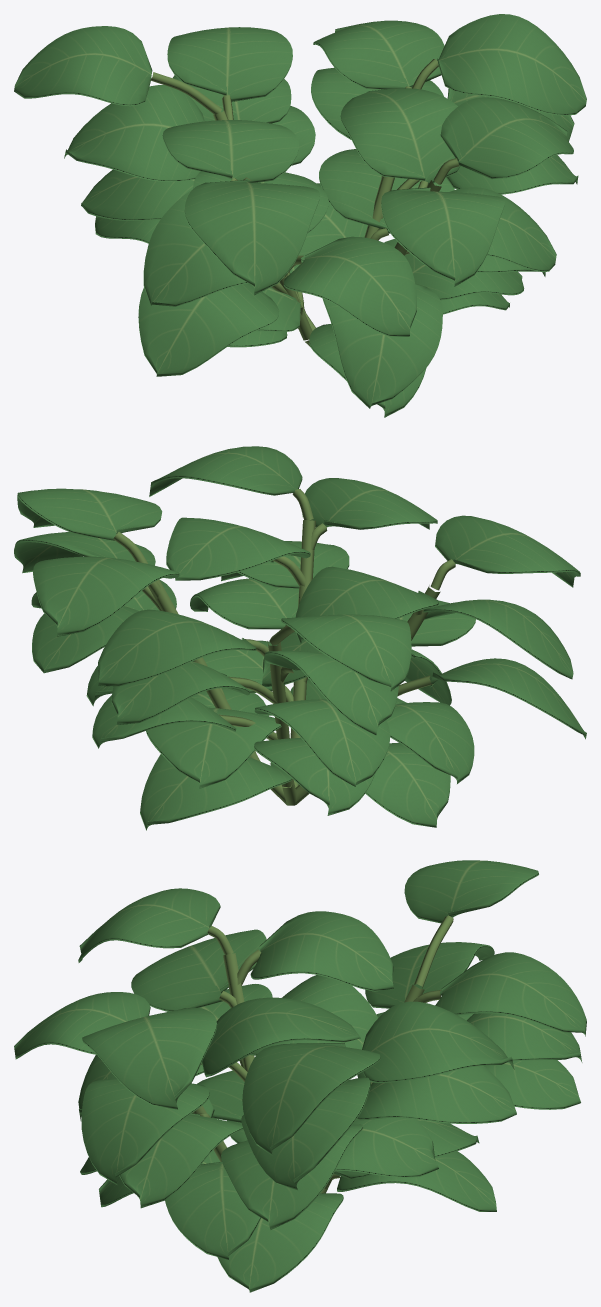
File: peperomia-stage-7.glb
3 renders of one model, top to bottom at view 1: azimuth 30°, elevation 25°; view 2: azimuth 150°, elevation 25°; view 3: azimuth 270°, elevation 25°, orthographic. The views are drawn at different scales.
Visible parts, largest first — view 1: Leaf_31, Leaf_29, Leaf_15, Leaf_20, Leaf_24, Leaf_30, Leaf_11, Leaf_22, Leaf_28, Leaf_8, Leaf_26, Leaf_27 (+20 smaller); view 2: PlantBranches, Leaf_25, Leaf_26, Leaf_30, Leaf_20, Leaf_14, Leaf_5, Leaf_2, Leaf_31, Leaf_29, Leaf_27, Leaf_7 (+19 smaller); view 3: Leaf_29, Leaf_28, Leaf_25, Leaf_27, Leaf_26, Leaf_16, Leaf_17, Leaf_20, Leaf_23, Leaf_30, Leaf_4, Leaf_31 (+17 smaller).
Part boxes in pixels (box(x1,y1,x2,y2)): Leaf_31: box(184, 180, 319, 295); Leaf_29: box(437, 14, 586, 115); Leaf_15: box(283, 236, 416, 336); Leaf_20: box(340, 88, 460, 184); Leaf_24: box(381, 187, 504, 286); Leaf_30: box(14, 26, 152, 106); Leaf_11: box(138, 283, 279, 376); Leaf_22: box(64, 85, 204, 181); Leaf_28: box(440, 97, 573, 179); Leaf_8: box(322, 283, 442, 408); Leaf_26: box(167, 27, 292, 101); Leaf_27: box(162, 120, 298, 182); PlantBranches: box(113, 489, 455, 805); Leaf_25: box(33, 556, 179, 636); Leaf_26: box(98, 609, 256, 686); Leaf_30: box(281, 614, 411, 691); Leaf_20: box(166, 517, 310, 580); Leaf_14: box(254, 699, 390, 786); Leaf_5: box(146, 707, 281, 788); Leaf_2: box(140, 754, 291, 830); Leaf_31: box(435, 515, 580, 587); Leaf_29: box(17, 488, 162, 540); Leaf_27: box(295, 566, 438, 644); Leaf_7: box(386, 702, 474, 783); Leaf_29: box(242, 1043, 380, 1155); Leaf_28: box(82, 1007, 217, 1109); Leaf_25: box(362, 1001, 514, 1082); Leaf_27: box(250, 911, 393, 991); Leaf_26: box(435, 952, 586, 1036); Leaf_16: box(81, 1078, 209, 1184); Leaf_17: box(356, 1066, 516, 1123); Leaf_20: box(202, 997, 360, 1077); Leaf_23: box(131, 929, 266, 1011); Leaf_30: box(404, 860, 538, 925); Leaf_4: box(165, 1161, 260, 1259); Leaf_31: box(78, 888, 220, 962).
Size of the model in its own units: 2.09 by 1.16 by 2.05.
Materials: 2 (1 with a texture image).
